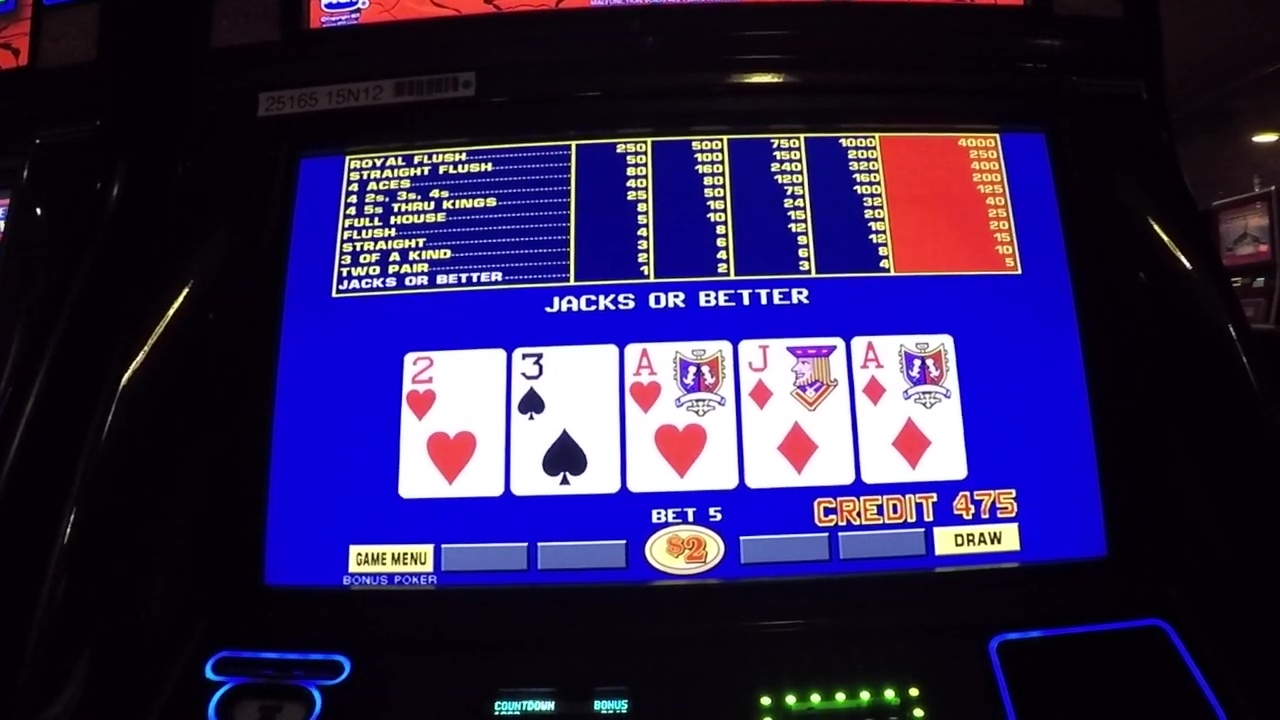DA: (859, 337, 950, 411)
DJ: (745, 342, 847, 418)
H2: (409, 354, 502, 425)
HA: (630, 344, 731, 424)
S3: (513, 350, 612, 427)
